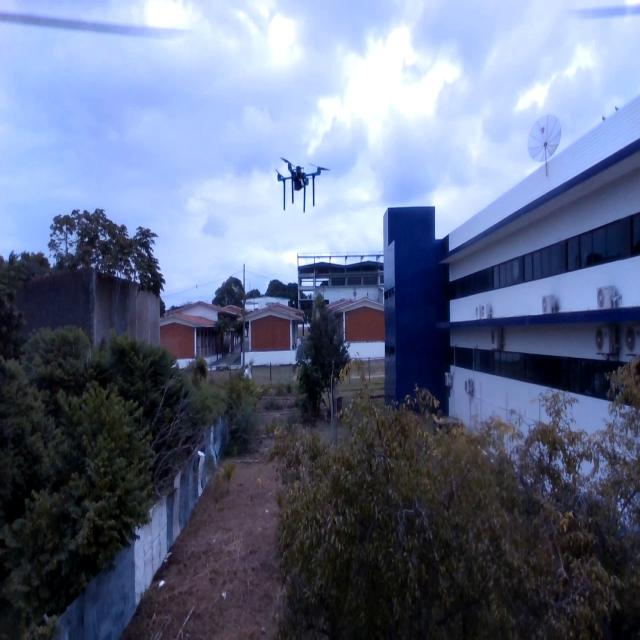-uav-: (266, 151, 332, 219)
